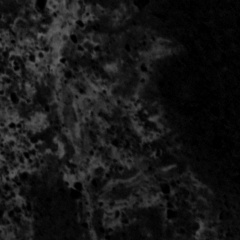Vegetation: (62, 112, 121, 171), (1, 108, 34, 170), (44, 1, 71, 55), (2, 29, 44, 56), (30, 51, 67, 74), (74, 90, 112, 110), (101, 201, 125, 225), (71, 2, 92, 25), (28, 112, 48, 133), (134, 191, 167, 203), (148, 42, 174, 56), (64, 170, 78, 184)
